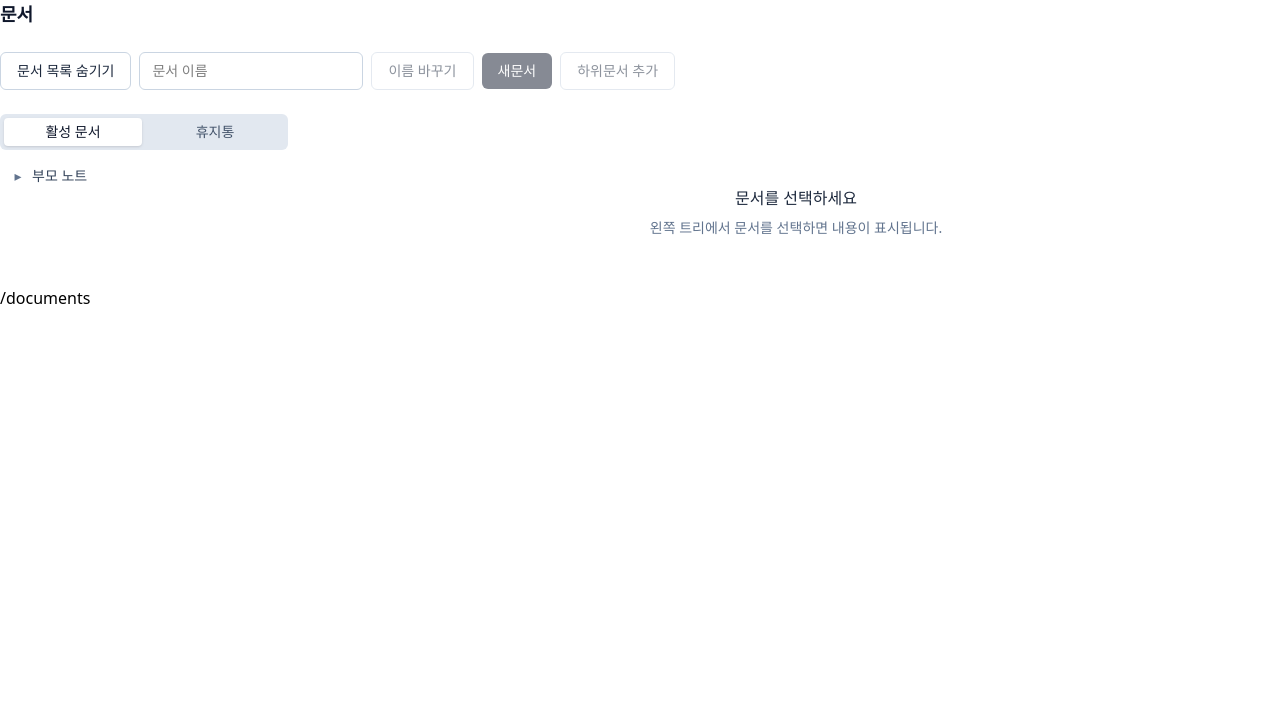
Test: DocumentWorkspacePage 조립 (트리 + 브레드크럼 + 뷰어 + 툴바) › 자식 문서 삭제 후 뷰어가 가장 가까운 부모 문서로 전환된다 (유령 문서 잔존 방지)
The image size is (1280, 720).
// 부모를 펼쳐 자식을 노출한 뒤, 자식을 선택해 뷰어에 자식 내용을 띄운다.
Click the button named "펼치기".
click(18, 176)  # box [8,166,28,186]
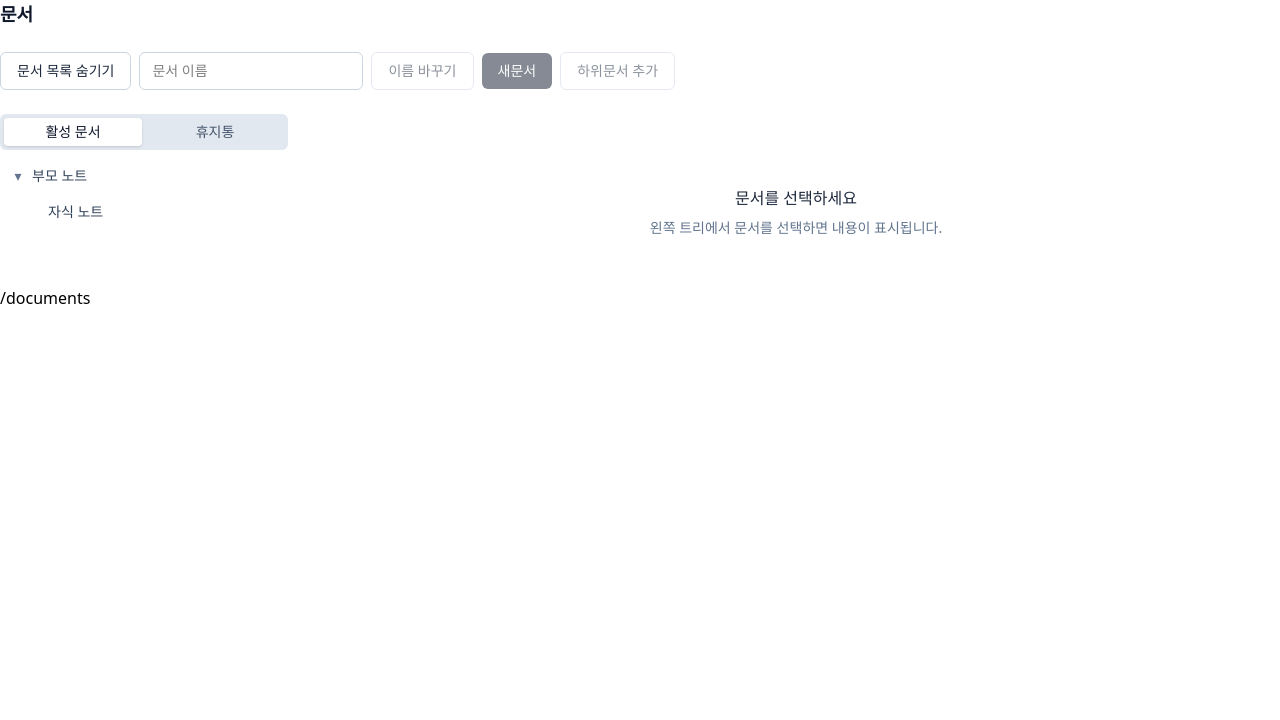
Click the button "자식 노트".
click(164, 212)  # box [48,202,280,222]
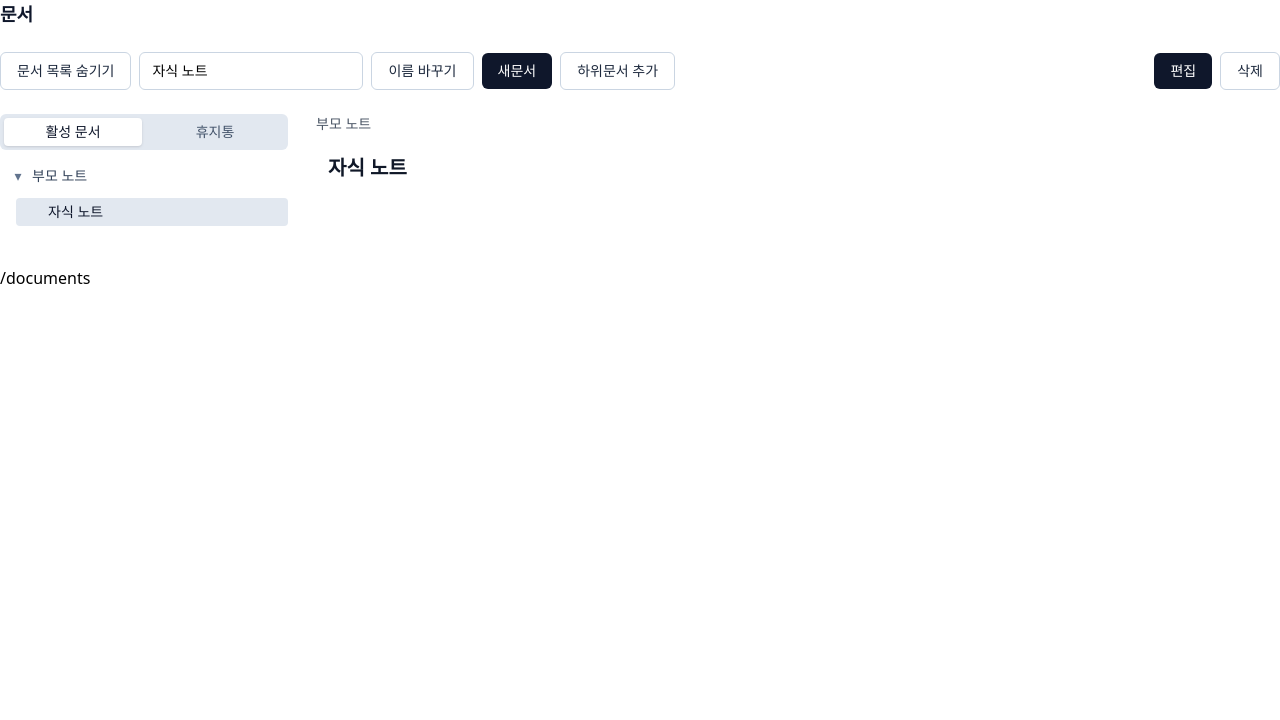
Click the button "삭제".
click(1250, 71)  # box [1220,52,1279,90]
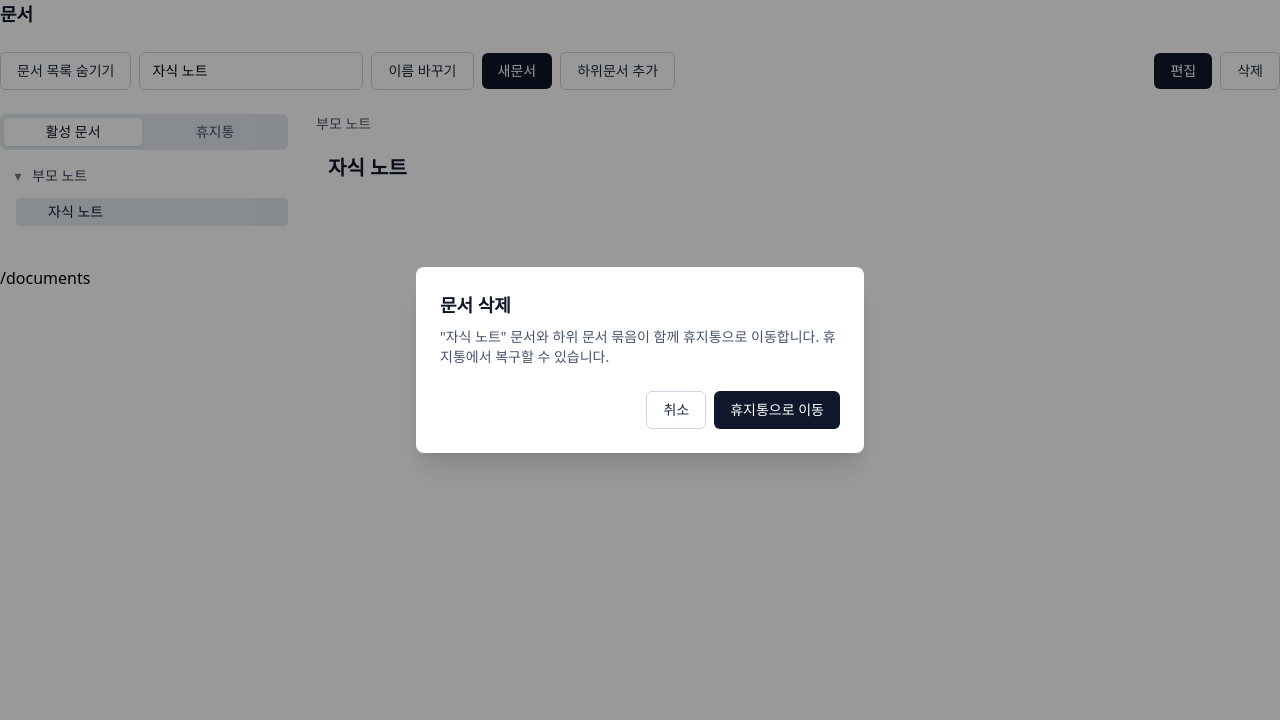
Click the button "휴지통으로 이동".
click(777, 410)  # box [714,391,840,429]
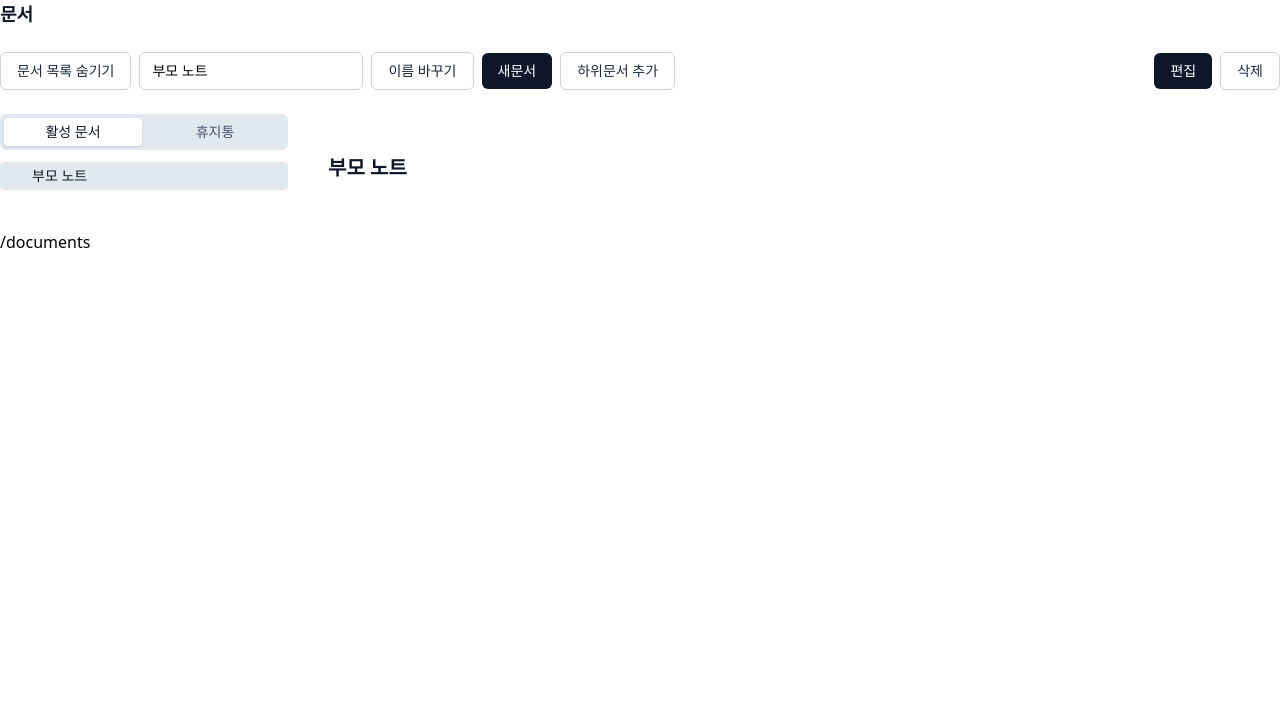
Check: the heading "부모 노트" is shown, box [328,154,407,182]
